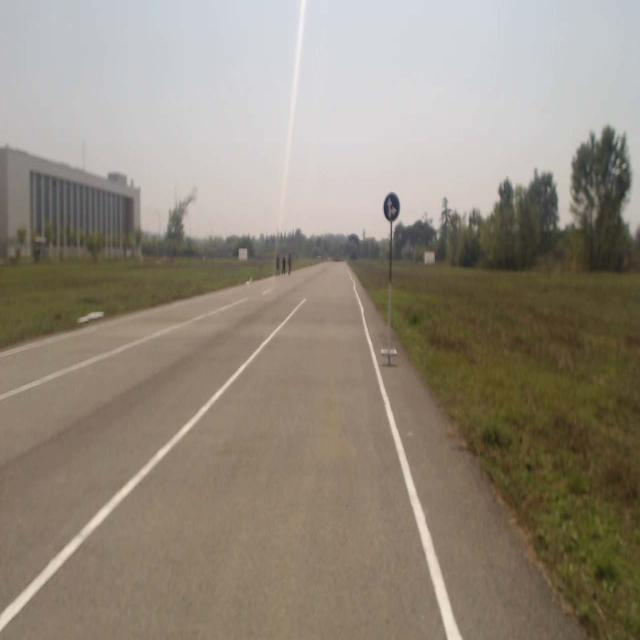ilerisag: (384, 193, 400, 220)
